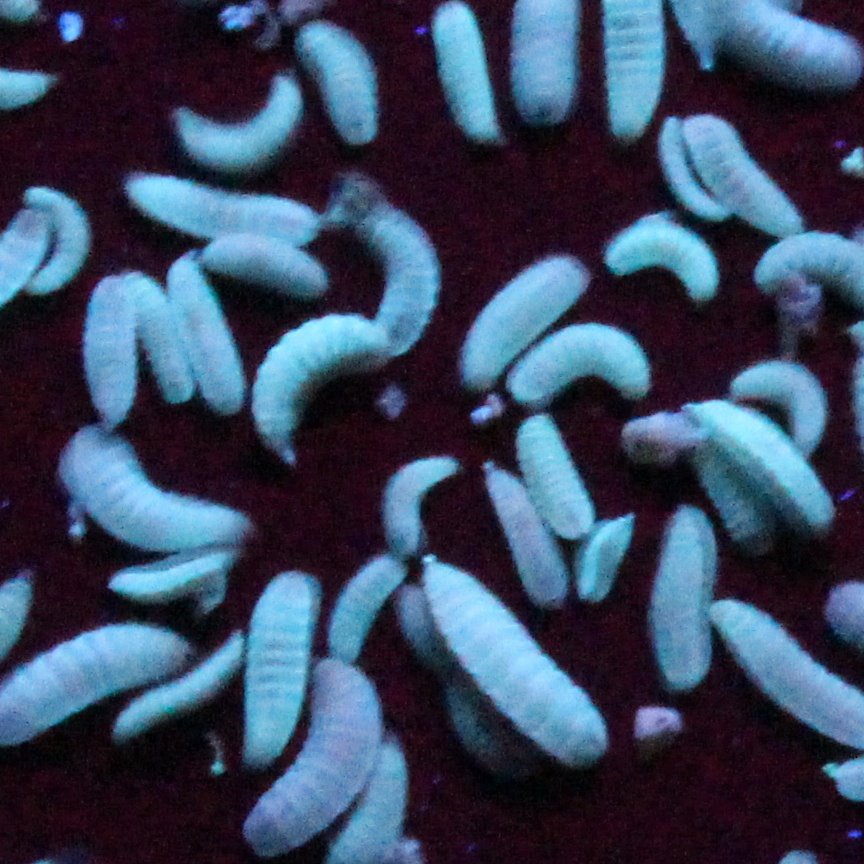larve: (419, 557, 609, 768), (248, 668, 392, 851), (58, 435, 250, 545), (693, 406, 843, 533), (250, 325, 382, 459), (462, 255, 588, 392), (348, 184, 435, 361), (119, 172, 323, 243), (119, 631, 246, 741), (246, 572, 319, 759), (686, 120, 802, 233), (505, 321, 664, 402), (484, 463, 562, 608), (170, 264, 241, 410), (609, 217, 727, 304), (731, 356, 829, 459), (182, 76, 296, 164), (656, 508, 709, 694), (294, 15, 376, 135), (513, 412, 596, 529), (129, 274, 196, 412), (433, 2, 496, 147), (21, 184, 94, 300), (201, 233, 319, 292), (390, 447, 456, 545), (331, 553, 397, 651), (578, 514, 646, 604), (86, 274, 125, 425), (105, 553, 233, 590)
